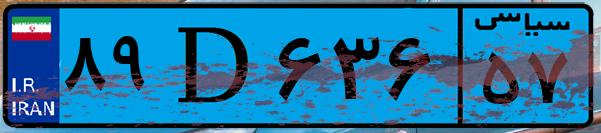3: (330, 28, 385, 110)
5: (475, 38, 525, 113)
6: (270, 28, 330, 110), (385, 28, 445, 110)
7: (525, 38, 570, 115)
8: (57, 26, 110, 100)
9: (110, 28, 158, 98)
D: (158, 12, 270, 120)
